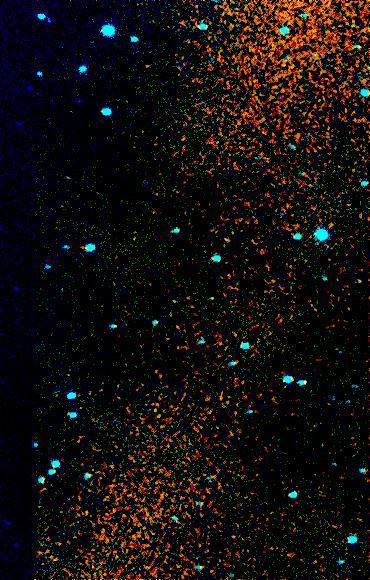star: (183, 90, 213, 120)
